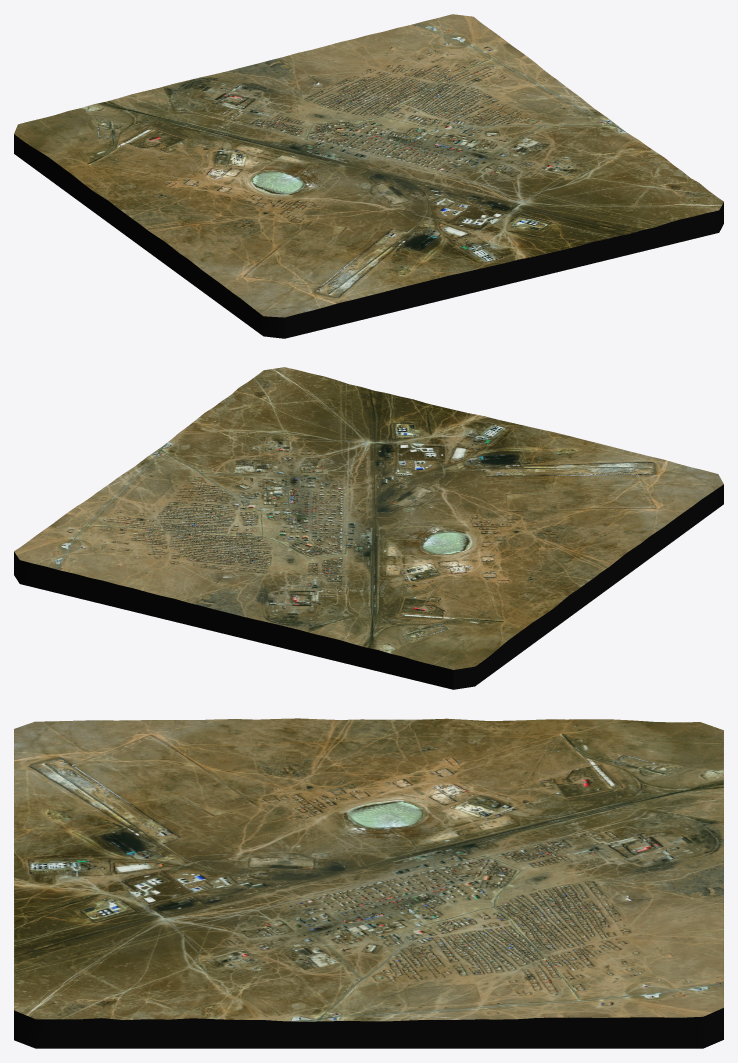
3 renders of one model, top to bottom at view 1: azimuth 30°, elevation 25°; view 2: azimuth 150°, elevation 25°; view 3: azimuth 270°, elevation 25°, orthographic. The views are drawn at different scales.
Visible parts, largest first — view 1: Object_2, Object_3; view 2: Object_2, Object_3; view 3: Object_2, Object_3.
Boxes of the visible parts, <box> form: Object_2: <box>14,14,723,317</box>; Object_3: <box>14,134,723,338</box>; Object_2: <box>14,367,723,669</box>; Object_3: <box>14,484,723,689</box>; Object_2: <box>14,718,723,1021</box>; Object_3: <box>14,1008,723,1048</box>.
Size of the model in its own units: 4968 by 250 by 4968.
2 materials, 1 textured.
